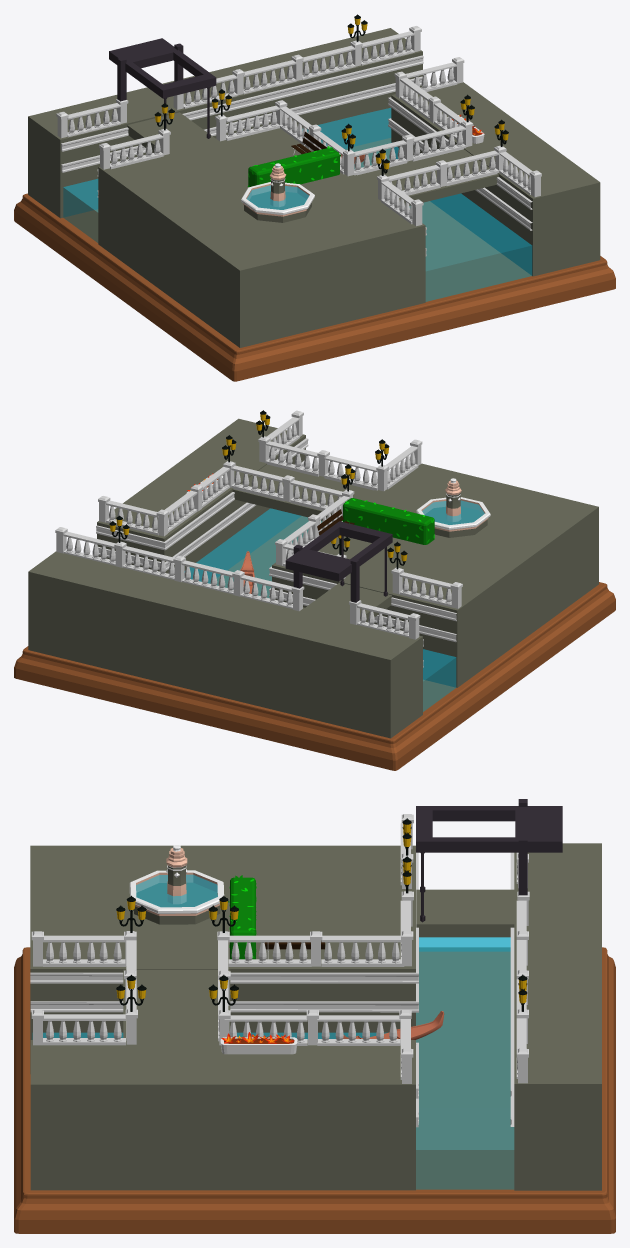
Rendered from Level4.FBX.
3 renders of one model, top to bottom at view 1: azimuth 30°, elevation 25°; view 2: azimuth 150°, elevation 25°; view 3: azimuth 270°, elevation 25°, orthographic. The views are drawn at different scales.
Parts seen in each view (by area): view 1: Object140, Box146, Box077; view 2: Object140, Box146, Box077; view 3: Object140, Box146, Box077.
Part boxes in pixels (bbox=[...]): Object140: bbox=[14, 14, 615, 381]; Box146: bbox=[109, 38, 216, 98]; Box077: bbox=[127, 112, 214, 152]; Object140: bbox=[14, 410, 615, 770]; Box146: bbox=[285, 521, 392, 581]; Box077: bbox=[305, 582, 391, 622]; Object140: bbox=[14, 799, 615, 1233]; Box146: bbox=[416, 806, 562, 852]; Box077: bbox=[416, 889, 514, 937].
Bounding box in the file's own units: 336 × 140 × 336.
